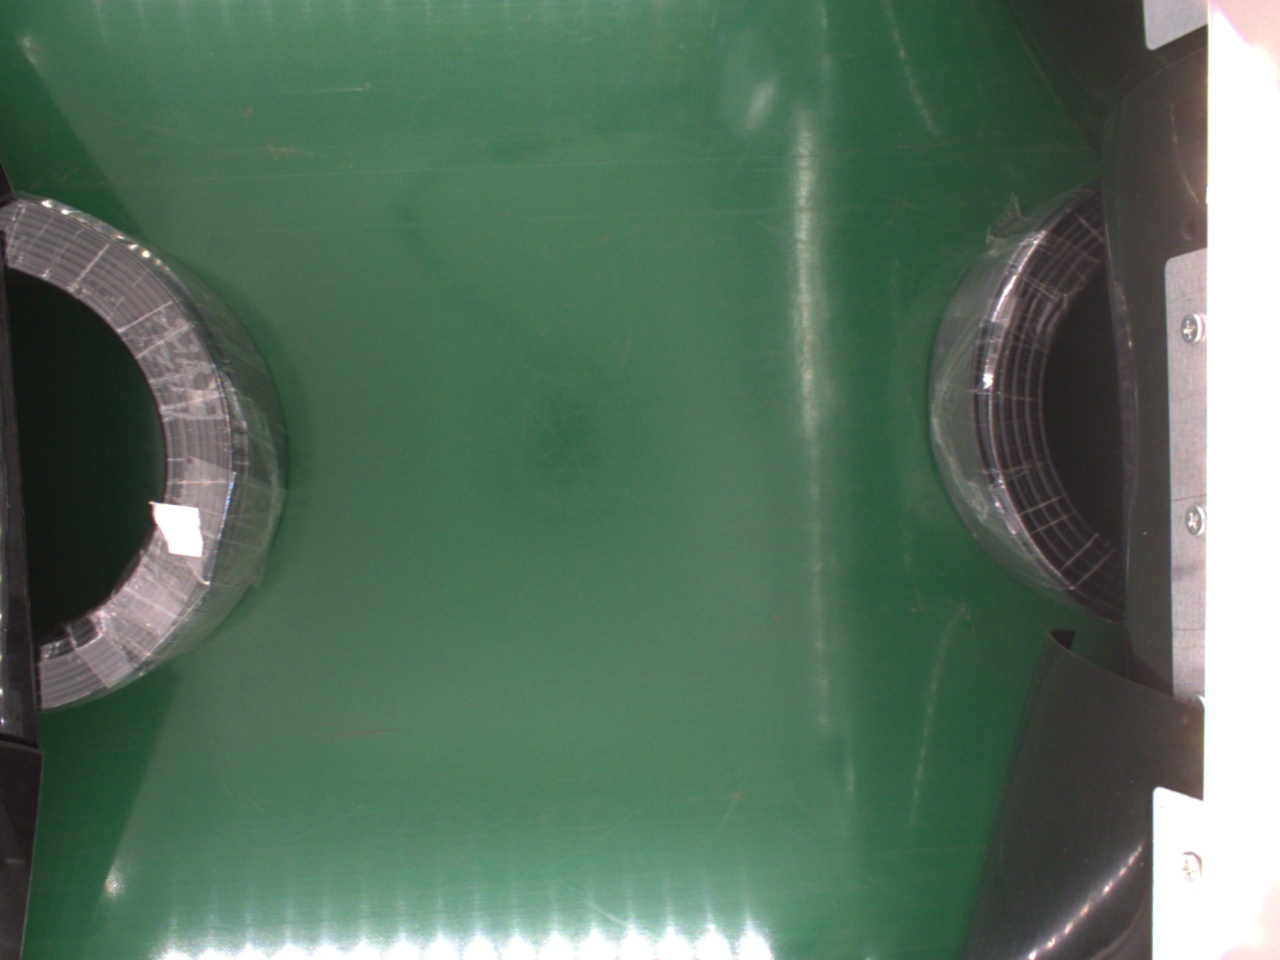black: (7, 187, 291, 711), (927, 182, 1136, 629)
